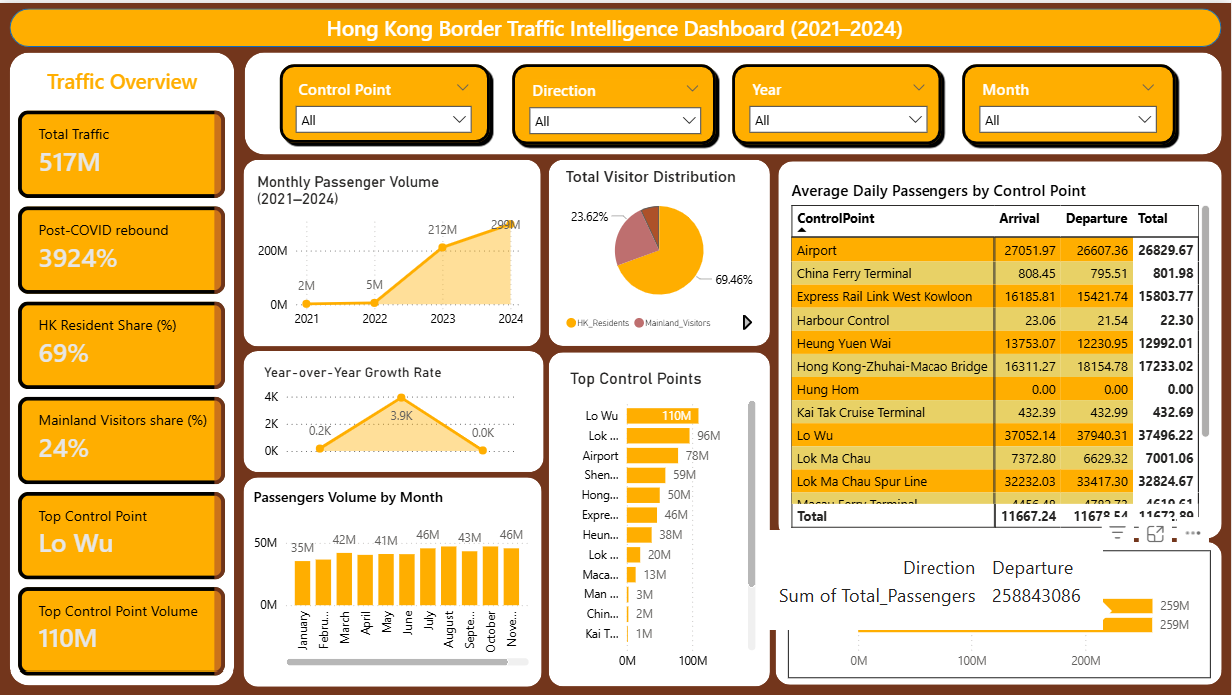

Layout of this report page (visuals, bound fields, positions):
{"tool":"powerbi","page":{"name":"Page 1","canvas":[1280,720],"ordinal":0},"visuals":[{"type":"shape","box":[805.3,560.7,464.7,147.3],"z":0},{"type":"shape","box":[808.1,163.7,461.9,391.9],"z":1000},{"type":"shape","box":[570,362.3,230,346.2],"z":2000},{"type":"shape","box":[570,163.5,230,193.5],"z":3000},{"type":"shape","box":[252.9,492.9,310,216.4],"z":4000},{"type":"shape","box":[253,362,312,126],"z":5000},{"type":"shape","box":[253,163,309,194],"z":6000},{"type":"shape","box":[254,52,1016,106],"z":7000},{"type":"shape","box":[285.8,58.1,228.3,91.7],"z":8000},{"type":"shape","box":[10,51.7,233.3,656.7],"z":9000},{"type":"shape","box":[10,5,1260,40],"z":10000},{"type":"textbox","box":[335,5,610,51.7],"z":11000},{"type":"cardVisual","fields":{"Data":["public border_traffic.Total Passengers","public border_traffic.YoY Growth 2023 (%)","public border_traffic.HK Resident Share (%)","public border_traffic.Mainland Visitors share (%)","public border_traffic.Top Control Point","public border_traffic.Top Control Point Volume"]},"box":[10,103.3,233.3,605],"z":12000},{"type":"lineChart","title":"Monthly Passenger Volume (2021–2024)","fields":{"Category":["public border_traffic.Date.Variation.Date Hierarchy.Year"],"Y":["Sum(public border_traffic.Total_Passengers)"]},"box":[257,169,296,181],"z":13000},{"type":"areaChart","title":"Year-over-Year Growth Rate ","fields":{"Category":["public border_traffic.Date.Variation.Date Hierarchy.Year"],"Y":["public border_traffic.YoY Growth (%)"]},"box":[264,367,282,116],"z":14000},{"type":"columnChart","title":"Passengers Volume by Month","fields":{"Category":["public border_traffic.Date.Variation.Date Hierarchy.Month"],"Y":["Sum(public border_traffic.Total_Passengers)"]},"box":[261.4,502.1,295.7,190.7],"z":15000},{"type":"pieChart","title":"Total Visitor Distribution ","fields":{"Y":["Sum(public border_traffic.hk_Residents)","Sum(public border_traffic.Mainland_Visitors)","Sum(public border_traffic.Other_Visitors)"]},"box":[583.1,169.2,203.8,181.5],"z":16000},{"type":"barChart","title":"Top Control Points","fields":{"Y":["Sum(public border_traffic.Total_Passengers)"],"Category":["public border_traffic.ControlPoint"]},"box":[587.1,380,202.9,321.4],"z":17000},{"type":"pivotTable","title":"Average Daily Passengers by Control Point","fields":{"Rows":["public border_traffic.ControlPoint"],"Columns":["public border_traffic.Direction"],"Values":["Avg(public border_traffic.Total_Passengers)"]},"box":[814.4,175.6,448.9,374.4],"z":18000},{"type":"clusteredBarChart","title":"Arrival vs Departure Analysis","fields":{"Category":["public border_traffic.Direction"],"Y":["Sum(public border_traffic.Total_Passengers)"]},"box":[818,568.7,440,132.7],"z":19000},{"type":"slicer","fields":{"Values":["public border_traffic.ControlPoint"]},"box":[297.5,73.1,202.5,63.3],"z":20000},{"type":"shape","box":[527.5,58.1,221.7,93.3],"z":21000},{"type":"slicer","fields":{"Values":["public border_traffic.Direction"]},"box":[540,74.8,198.3,63.3],"z":22000},{"type":"shape","box":[755.8,58.1,228.3,93.3],"z":23000},{"type":"slicer","fields":{"Values":["public border_traffic.Date.Variation.Date Hierarchy.Year"]},"box":[768.3,73.1,205,63.3],"z":24000},{"type":"shape","box":[995.8,58.1,231.7,93.3],"z":25000},{"type":"slicer","fields":{"Values":["public border_traffic.Date.Variation.Date Hierarchy.Month"]},"box":[1009.2,73.1,204.2,63.3],"z":26000},{"type":"textbox","box":[39.5,61.5,173.5,38],"z":26001}]}

Visuals, with their boxes in screenshot pixels (x1, y1, x2, y2), scaled from the page's 1280x720 canvas onto the 1232x695 screenshot:
shape: crop(775, 541, 1222, 683)
shape: crop(778, 158, 1222, 536)
shape: crop(549, 350, 770, 684)
shape: crop(549, 158, 770, 345)
shape: crop(243, 476, 542, 685)
shape: crop(244, 349, 544, 471)
shape: crop(244, 157, 541, 345)
shape: crop(244, 50, 1222, 153)
shape: crop(275, 56, 495, 145)
shape: crop(10, 50, 234, 684)
shape: crop(10, 5, 1222, 43)
textbox: crop(322, 5, 910, 55)
cardVisual - public border_traffic.Total Passengers x public border_traffic.YoY Growth 2023 (%): crop(10, 100, 234, 684)
"Monthly Passenger Volume (2021–2024)" lineChart: crop(247, 163, 532, 338)
"Year-over-Year Growth Rate " areaChart: crop(254, 354, 526, 466)
"Passengers Volume by Month" columnChart: crop(252, 485, 536, 669)
"Total Visitor Distribution " pieChart: crop(561, 163, 757, 339)
"Top Control Points" barChart: crop(565, 367, 760, 677)
"Average Daily Passengers by Control Point" pivotTable: crop(784, 170, 1216, 531)
"Arrival vs Departure Analysis" clusteredBarChart: crop(787, 549, 1211, 677)
slicer - public border_traffic.ControlPoint: crop(286, 71, 481, 132)
shape: crop(508, 56, 721, 146)
slicer - public border_traffic.Direction: crop(520, 72, 711, 133)
shape: crop(727, 56, 947, 146)
slicer - public border_traffic.Date.Variation.Date Hierarchy.Year: crop(739, 71, 937, 132)
shape: crop(958, 56, 1181, 146)
slicer - public border_traffic.Date.Variation.Date Hierarchy.Month: crop(971, 71, 1168, 132)
textbox: crop(38, 59, 205, 96)
